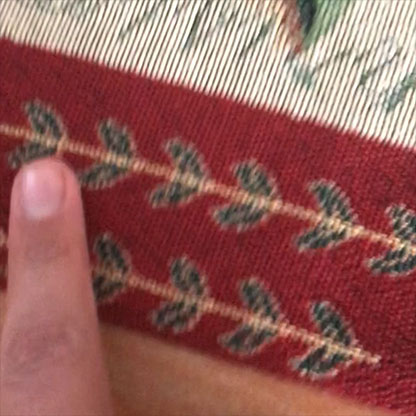fingertip: (4, 155, 101, 241)
